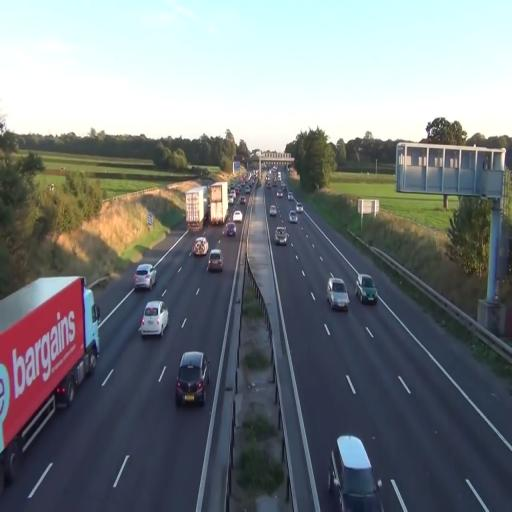vehicle: (0, 277, 100, 494), (0, 275, 100, 489), (329, 436, 383, 511), (330, 434, 378, 510), (174, 350, 208, 407), (176, 352, 209, 406), (140, 300, 168, 339), (140, 301, 168, 338), (186, 187, 209, 231), (210, 180, 228, 226), (210, 182, 229, 225), (327, 275, 349, 310), (356, 274, 378, 306), (327, 278, 349, 310), (356, 274, 377, 303), (133, 264, 155, 291), (134, 264, 156, 290), (206, 248, 224, 274), (192, 236, 209, 259), (208, 249, 223, 271), (192, 237, 208, 255), (274, 225, 288, 245), (275, 227, 287, 245), (224, 222, 237, 238), (226, 223, 236, 236), (289, 210, 298, 223), (233, 210, 242, 221), (270, 205, 277, 216), (296, 203, 303, 213), (230, 190, 236, 199), (228, 195, 234, 204), (240, 196, 246, 204), (277, 190, 283, 197), (245, 186, 250, 194), (282, 183, 287, 191), (288, 192, 293, 200), (266, 181, 271, 189), (235, 187, 239, 196), (240, 178, 244, 186), (277, 172, 281, 180), (273, 180, 277, 187)
